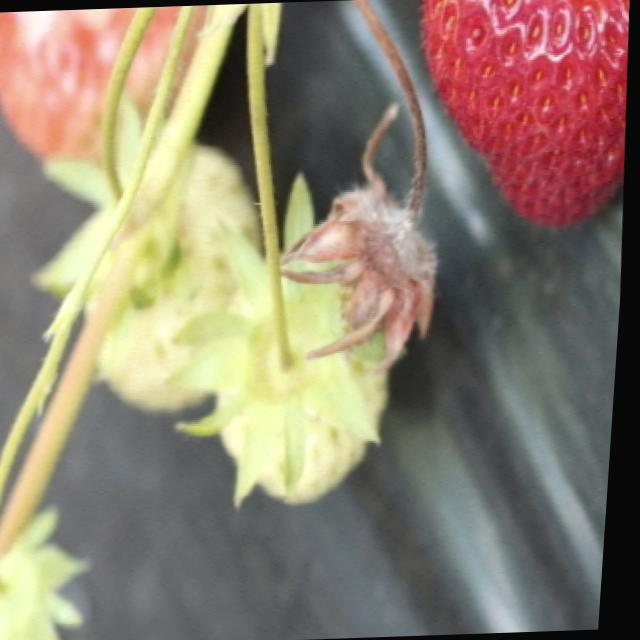Gray Mold: (280, 104, 439, 368)
